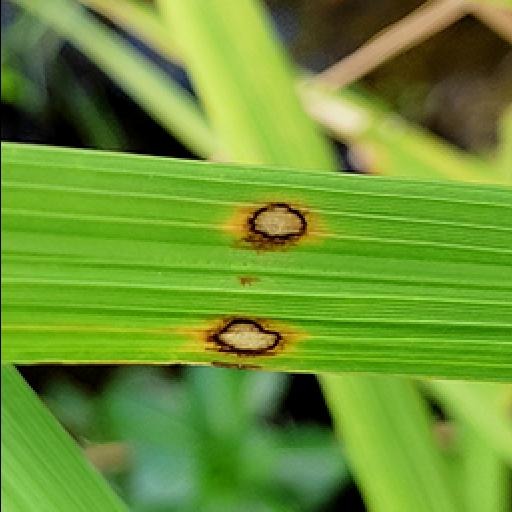Brown Spot: (188, 308, 290, 368), (226, 194, 324, 256), (234, 276, 258, 292)
